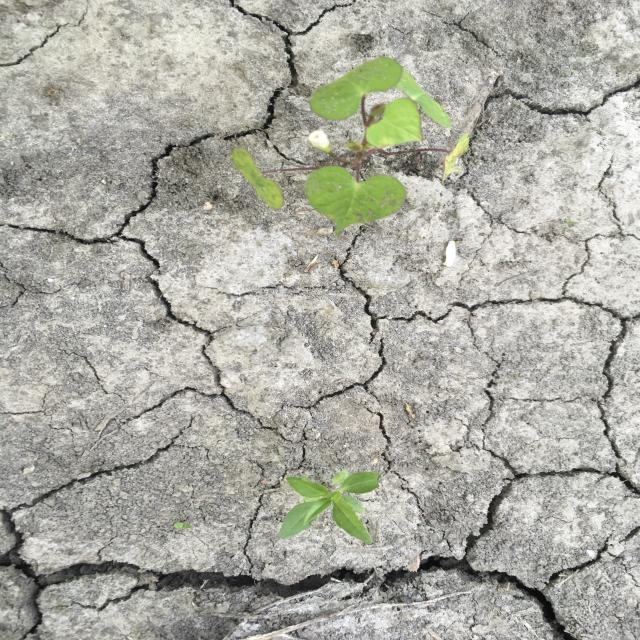Eclipta: (276, 468, 382, 546)
MorningGlory: (232, 53, 471, 240)
